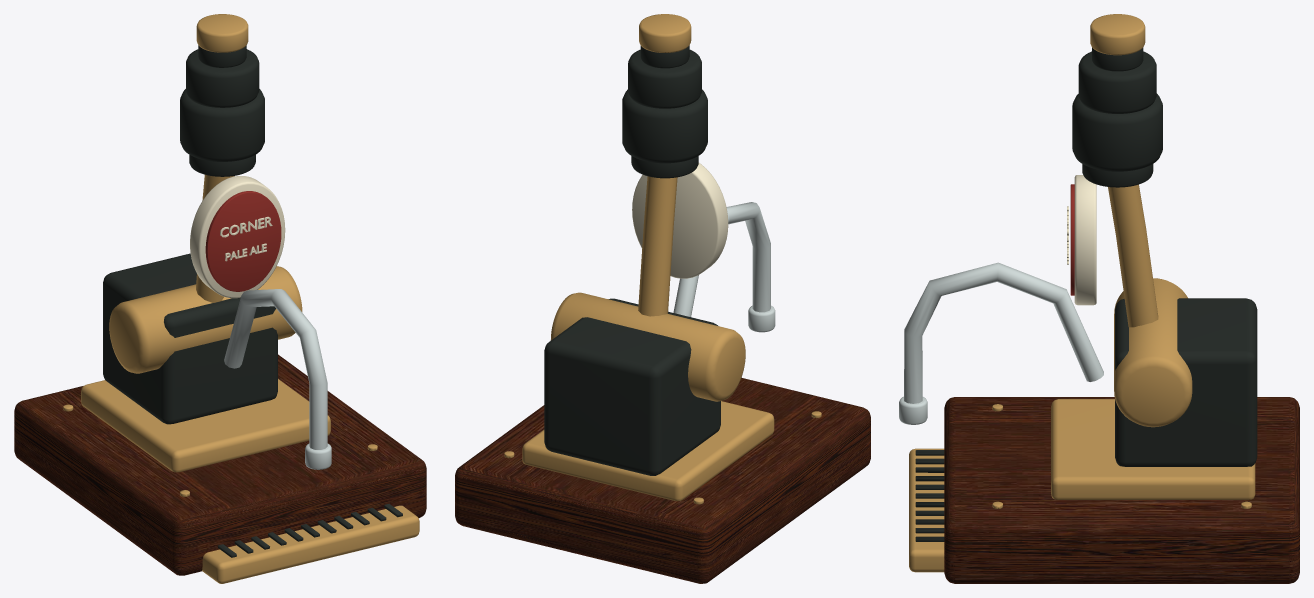
The model's file is ale-handpump.glb.
3 views of the same model, side by side, from view 1: azimuth 30°, elevation 25°; view 2: azimuth 150°, elevation 25°; view 3: azimuth 270°, elevation 25° (orthographic). The views are drawn at different scales.
Visible parts, largest first — view 1: ale-handpump; view 2: ale-handpump; view 3: ale-handpump.
Boxes of the visible parts, x1,y1,x2,y2 form: ale-handpump: (14,14,426,583); ale-handpump: (455,14,870,583); ale-handpump: (899,14,1299,583).
Size of the model in its own units: 0.35 by 0.6175 by 0.451.
6 materials, 1 textured.
